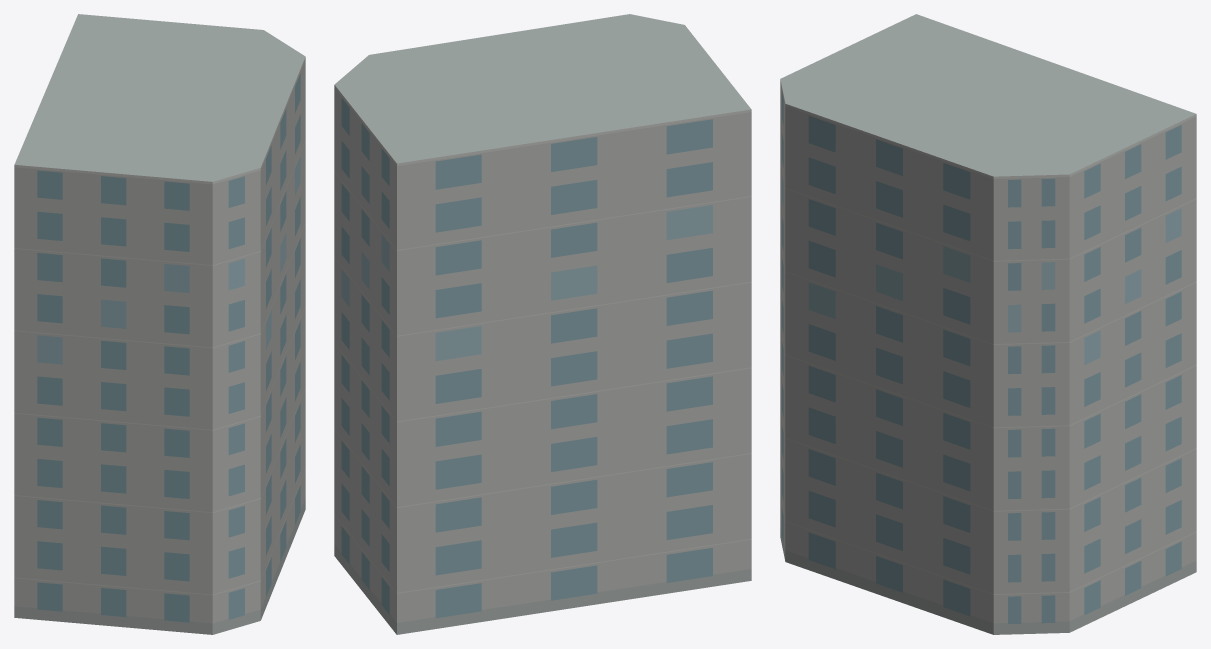
The model's file is survey-upis-32660873.glb.
The picture shows the model from 3 angles, left to right: view 1: azimuth 30°, elevation 25°; view 2: azimuth 150°, elevation 25°; view 3: azimuth 270°, elevation 25°; orthographic projection. The views are drawn at different scales.
Parts seen in each view (by area): view 1: survey-upis-32660873.tmp; view 2: survey-upis-32660873.tmp; view 3: survey-upis-32660873.tmp.
Part boxes in pixels (x1,y1,x2,y2): survey-upis-32660873.tmp: (14,14,305,634); survey-upis-32660873.tmp: (334,14,751,634); survey-upis-32660873.tmp: (780,14,1196,634).
Bounding box in the file's own units: 33.24 × 43.65 × 35.95.
